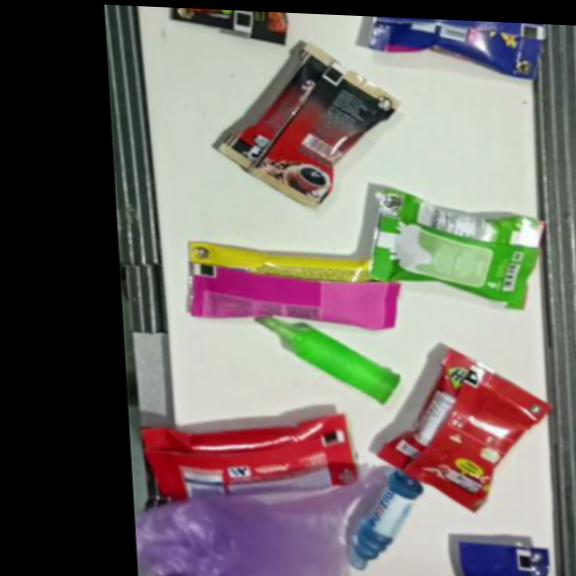Plastik: (209, 37, 405, 214), (131, 455, 400, 576), (370, 346, 558, 519), (140, 405, 362, 515), (362, 185, 549, 313), (182, 243, 402, 332), (255, 317, 402, 406), (368, 17, 551, 81), (344, 470, 427, 574), (170, 8, 287, 46), (458, 542, 554, 576)
